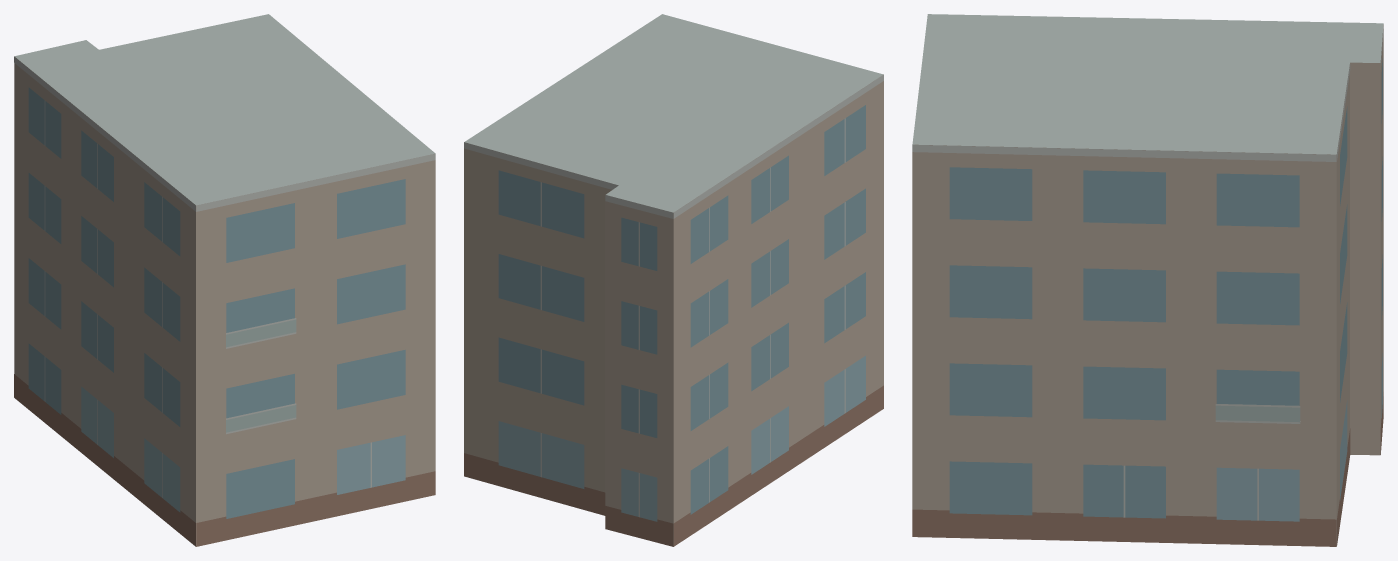
Rendered from survey-upis-32665310.glb.
The picture shows the model from 3 angles, left to right: view 1: azimuth 30°, elevation 25°; view 2: azimuth 150°, elevation 25°; view 3: azimuth 270°, elevation 25°; orthographic projection. The views are drawn at different scales.
Visible parts, largest first — view 1: survey-upis-32665310.tmp; view 2: survey-upis-32665310.tmp; view 3: survey-upis-32665310.tmp.
Boxes of the visible parts, x1,y1,x2,y2 form: survey-upis-32665310.tmp: [14, 14, 435, 546]; survey-upis-32665310.tmp: [464, 14, 883, 546]; survey-upis-32665310.tmp: [912, 14, 1383, 546].
Size of the model in its own units: 9.85 by 12.8 by 13.94.
